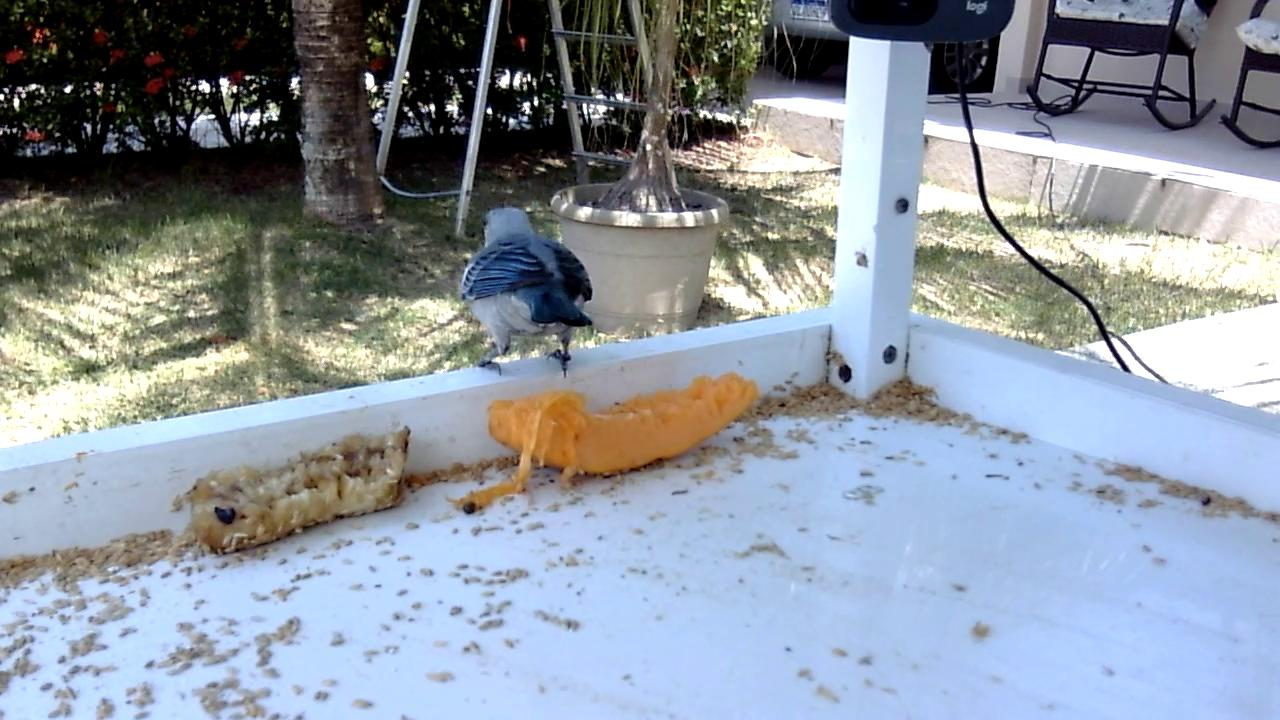sanhaco_da_amazonia: (458, 205, 597, 381)
